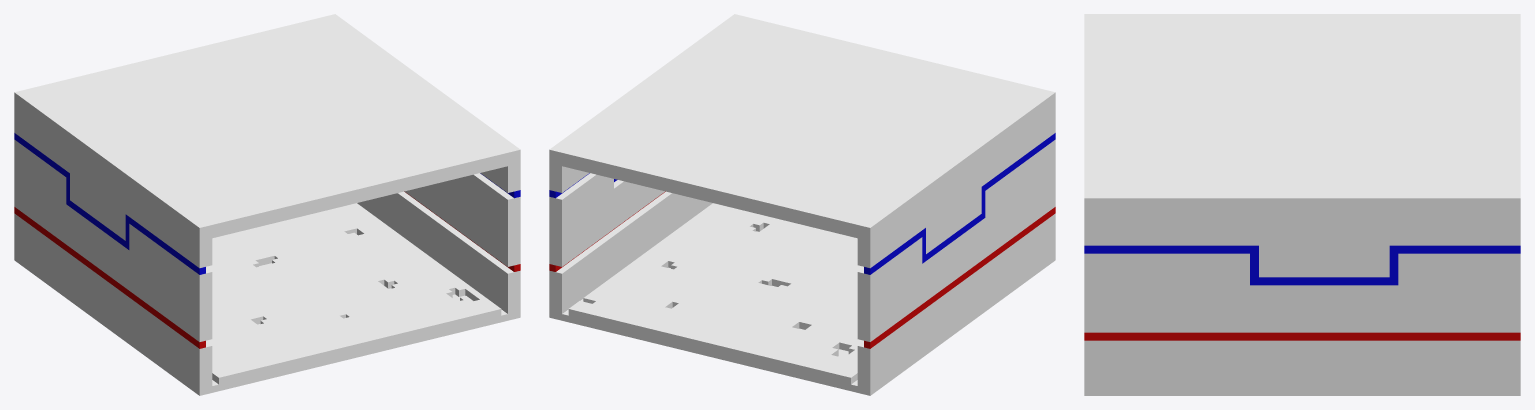
The model's file is corridorStraight01_Roof.fbx.
The picture shows the model from 3 angles, left to right: view 1: azimuth 30°, elevation 25°; view 2: azimuth 150°, elevation 25°; view 3: azimuth 270°, elevation 25°; orthographic projection. The views are drawn at different scales.
Parts seen in each view (by area): view 1: ceiling1.004, wall_left1.010, floor1.004, wall_left1.009; view 2: ceiling1.004, wall_left1.010, floor1.004, wall_left1.009; view 3: wall_left1.009, ceiling1.004, wall_left1.010.
Part boxes in pixels (bbox=[...]): ceiling1.004: bbox=[27, 17, 507, 238]; wall_left1.010: bbox=[14, 89, 212, 395]; floor1.004: bbox=[206, 203, 507, 392]; wall_left1.009: bbox=[323, 14, 520, 320]; ceiling1.004: bbox=[562, 17, 1042, 238]; wall_left1.010: bbox=[857, 89, 1055, 395]; floor1.004: bbox=[562, 203, 863, 392]; wall_left1.009: bbox=[549, 14, 746, 320]; wall_left1.009: bbox=[1084, 191, 1520, 395]; ceiling1.004: bbox=[1084, 21, 1520, 190]; wall_left1.010: bbox=[1084, 14, 1520, 21].
Bounding box in the file's own units: 4 × 2 × 4.
4 materials, 4 textured.
